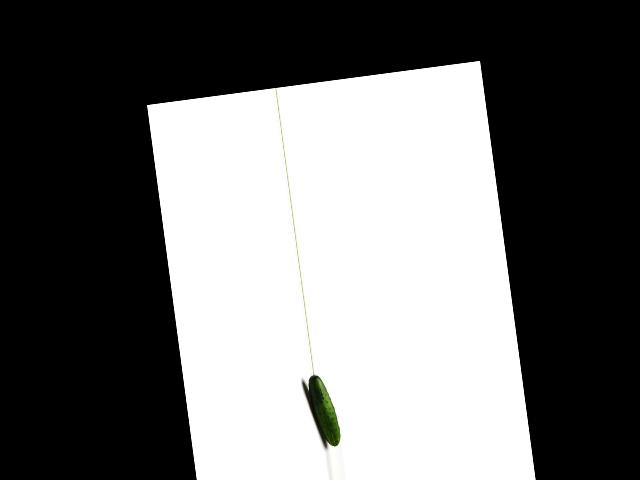cucumber: (306, 371, 341, 448)
